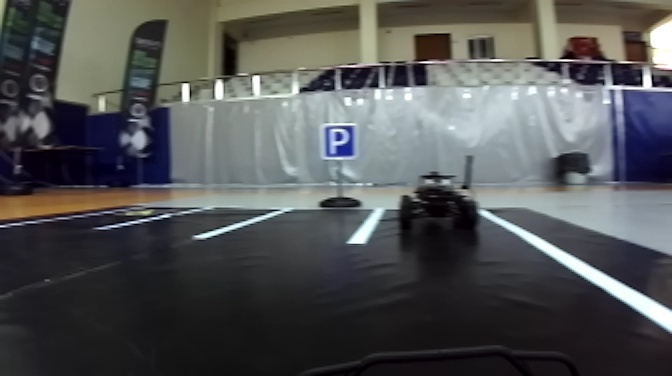park: (321, 123, 362, 163)
